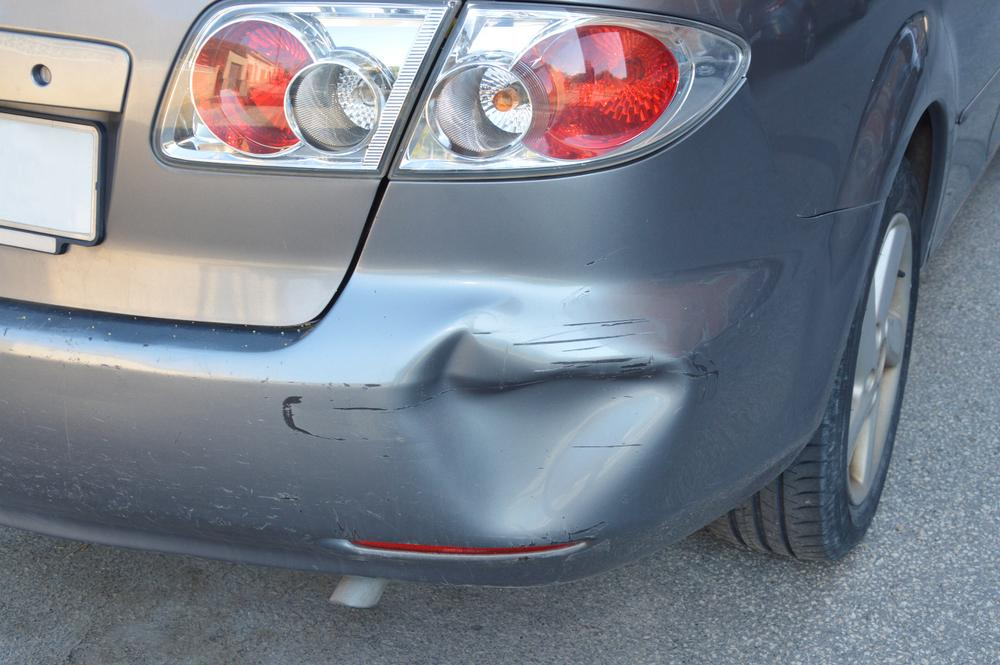dent: (396, 330, 688, 535)
scratch: (192, 483, 421, 536), (273, 373, 411, 449), (506, 315, 656, 367), (682, 351, 722, 396)
